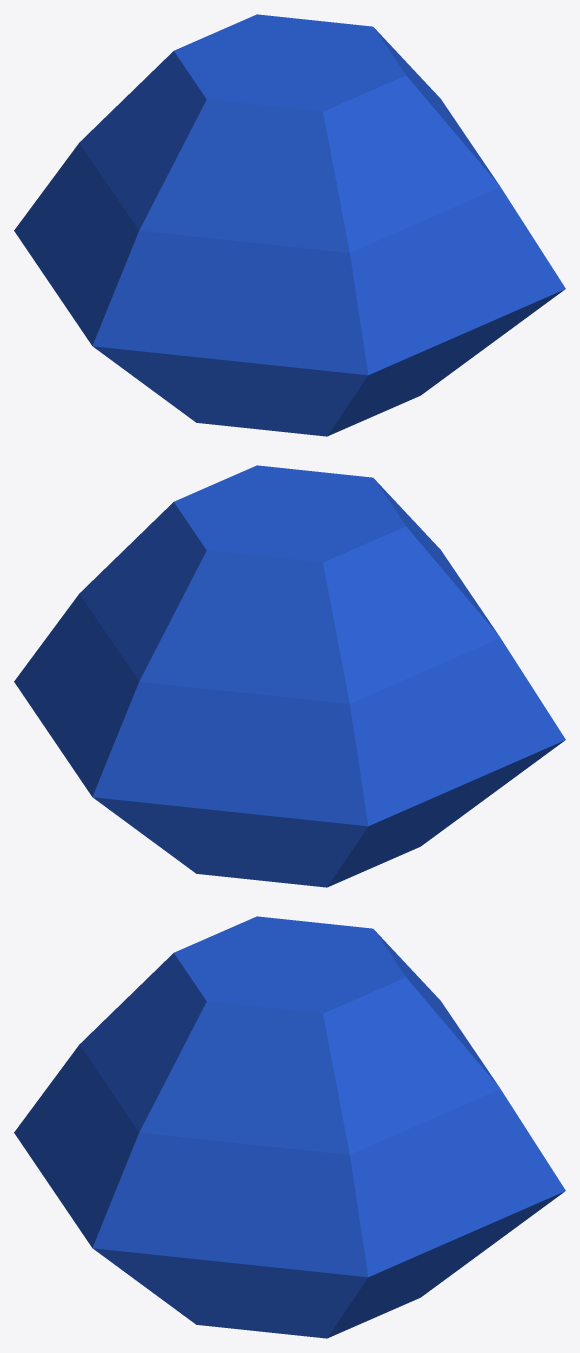
File: SapphireGem.fbx
The picture shows the model from 3 angles, top to bottom: view 1: azimuth 30°, elevation 25°; view 2: azimuth 150°, elevation 25°; view 3: azimuth 270°, elevation 25°; orthographic projection.
Visible parts, largest first — view 1: SapphireGem; view 2: SapphireGem; view 3: SapphireGem.
Part boxes in pixels (x1,y1,x2,y2): SapphireGem: (14, 14, 565, 436); SapphireGem: (14, 465, 565, 887); SapphireGem: (14, 916, 565, 1338).
Bounding box in the file's own units: 7.31 × 4.7 × 7.37.
